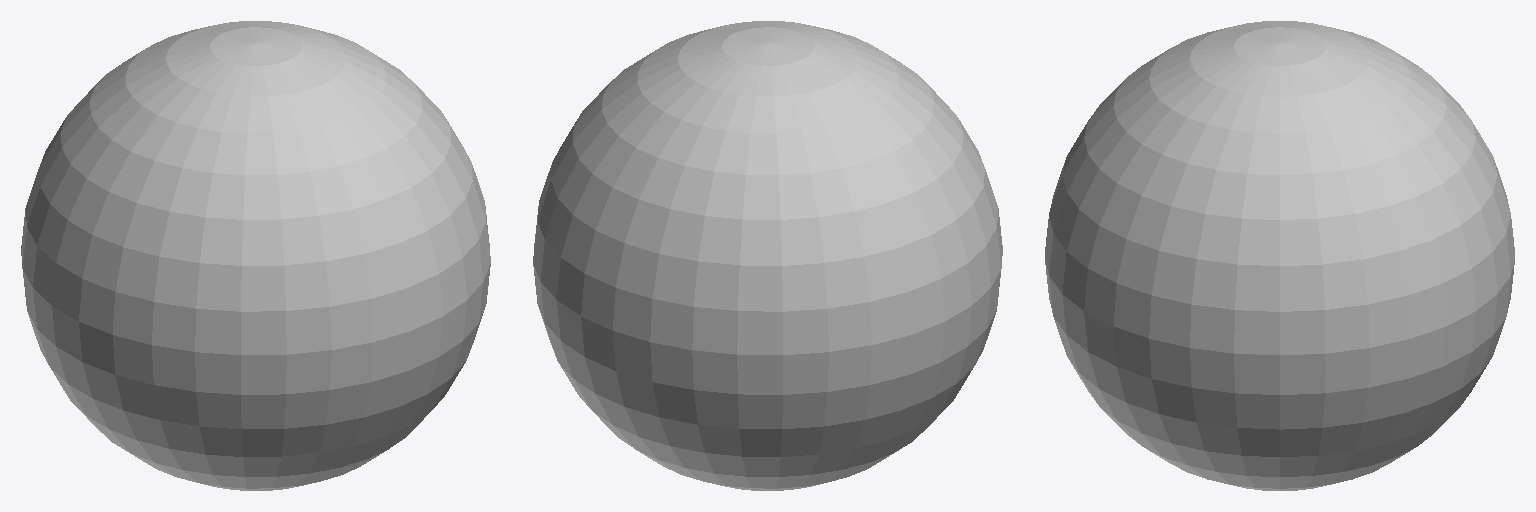
The model's file is player.obj.
The picture shows the model from 3 angles: view 1: azimuth 30°, elevation 25°; view 2: azimuth 150°, elevation 25°; view 3: azimuth 270°, elevation 25°; orthographic projection.
Parts seen in each view (by area): view 1: Sphere; view 2: Sphere; view 3: Sphere.
Boxes of the visible parts, x1,y1,x2,y2 form: Sphere: [21, 21, 490, 490]; Sphere: [533, 21, 1002, 490]; Sphere: [1045, 21, 1514, 490].
Size of the model in its own units: 2 by 2 by 2.